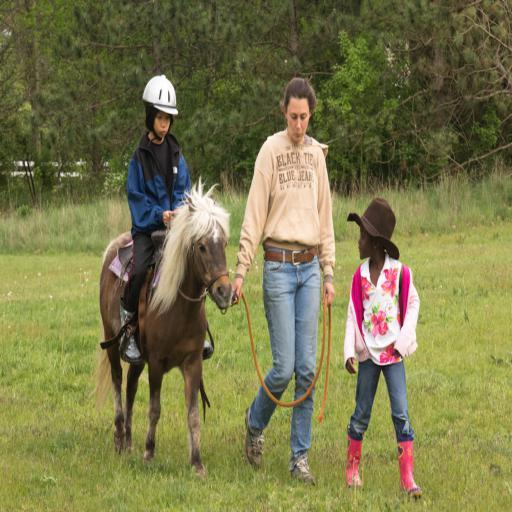Horse: (95, 183, 238, 469)
